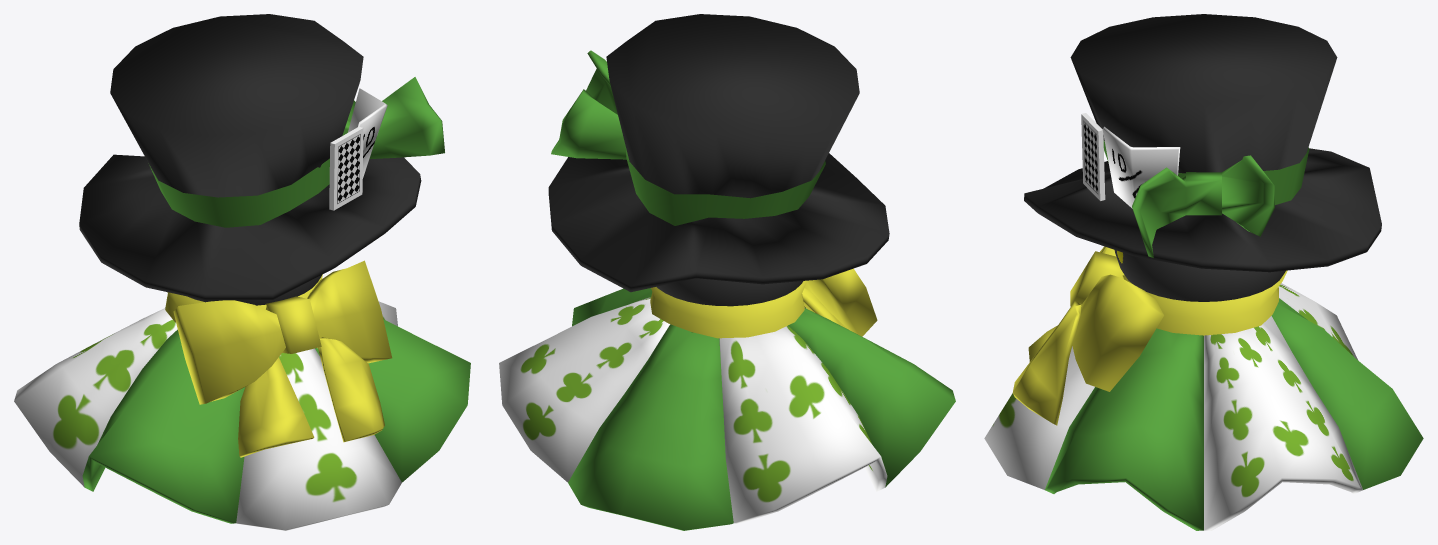
3 views of the same model, side by side, from view 1: azimuth 30°, elevation 25°; view 2: azimuth 150°, elevation 25°; view 3: azimuth 270°, elevation 25° (orthographic). The views are drawn at different scales.
Visible parts, largest first — view 1: 帽子, マントcolor, マント, リボン, 帽子リボン, トランプ, カード, 顔; view 2: 帽子, マント, マントcolor, 帽子リボン, リボン, 顔; view 3: 帽子, マントcolor, マント, リボン, 帽子リボン, 顔, カード, トランプ.
Boxes of the visible parts, box(x1,y1,x2,y2) form: 帽子: box(79, 14, 421, 300); マントcolor: box(82, 307, 470, 523); マント: box(14, 301, 401, 530); リボン: box(165, 260, 392, 457); 帽子リボン: box(148, 77, 444, 227); トランプ: box(329, 127, 363, 210); カード: box(348, 88, 387, 178); 顔: box(188, 275, 321, 305); 帽子: box(548, 14, 889, 292); マント: box(499, 297, 887, 523); マントcolor: box(568, 288, 955, 530); 帽子リボン: box(551, 50, 825, 225); リボン: box(650, 268, 877, 338); 顔: box(656, 278, 803, 306); 帽子: box(1024, 14, 1381, 272); マントcolor: box(1045, 298, 1423, 530); マント: box(984, 283, 1362, 530); リボン: box(1012, 246, 1287, 425); 帽子リボン: box(1103, 140, 1309, 257); 顔: box(1114, 250, 1285, 301); カード: box(1102, 126, 1180, 208); トランプ: box(1081, 113, 1105, 200).
Bounding box in the file's own units: 625 × 610 × 600.
Materials: 7 (4 with a texture image).
